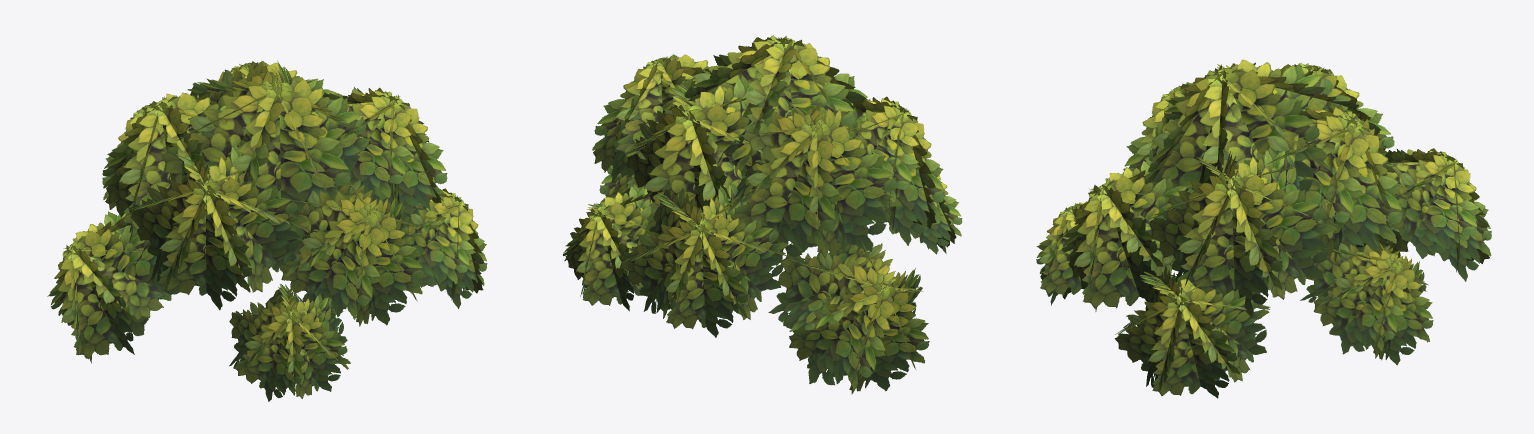
Rendered from stsm_plant_shuye_01.FBX.
3 renders of one model, left to right at view 1: azimuth 30°, elevation 25°; view 2: azimuth 150°, elevation 25°; view 3: azimuth 270°, elevation 25°, orthographic. The views are drawn at different scales.
Visible parts, largest first — view 1: stsm_plant_shuye_01; view 2: stsm_plant_shuye_01; view 3: stsm_plant_shuye_01.
Part boxes in pixels (x1,y1,x2,y2): stsm_plant_shuye_01: [47, 60, 487, 401]; stsm_plant_shuye_01: [563, 35, 962, 394]; stsm_plant_shuye_01: [1036, 59, 1491, 398].
Size of the model in its own units: 5.98 by 4.45 by 6.13.
